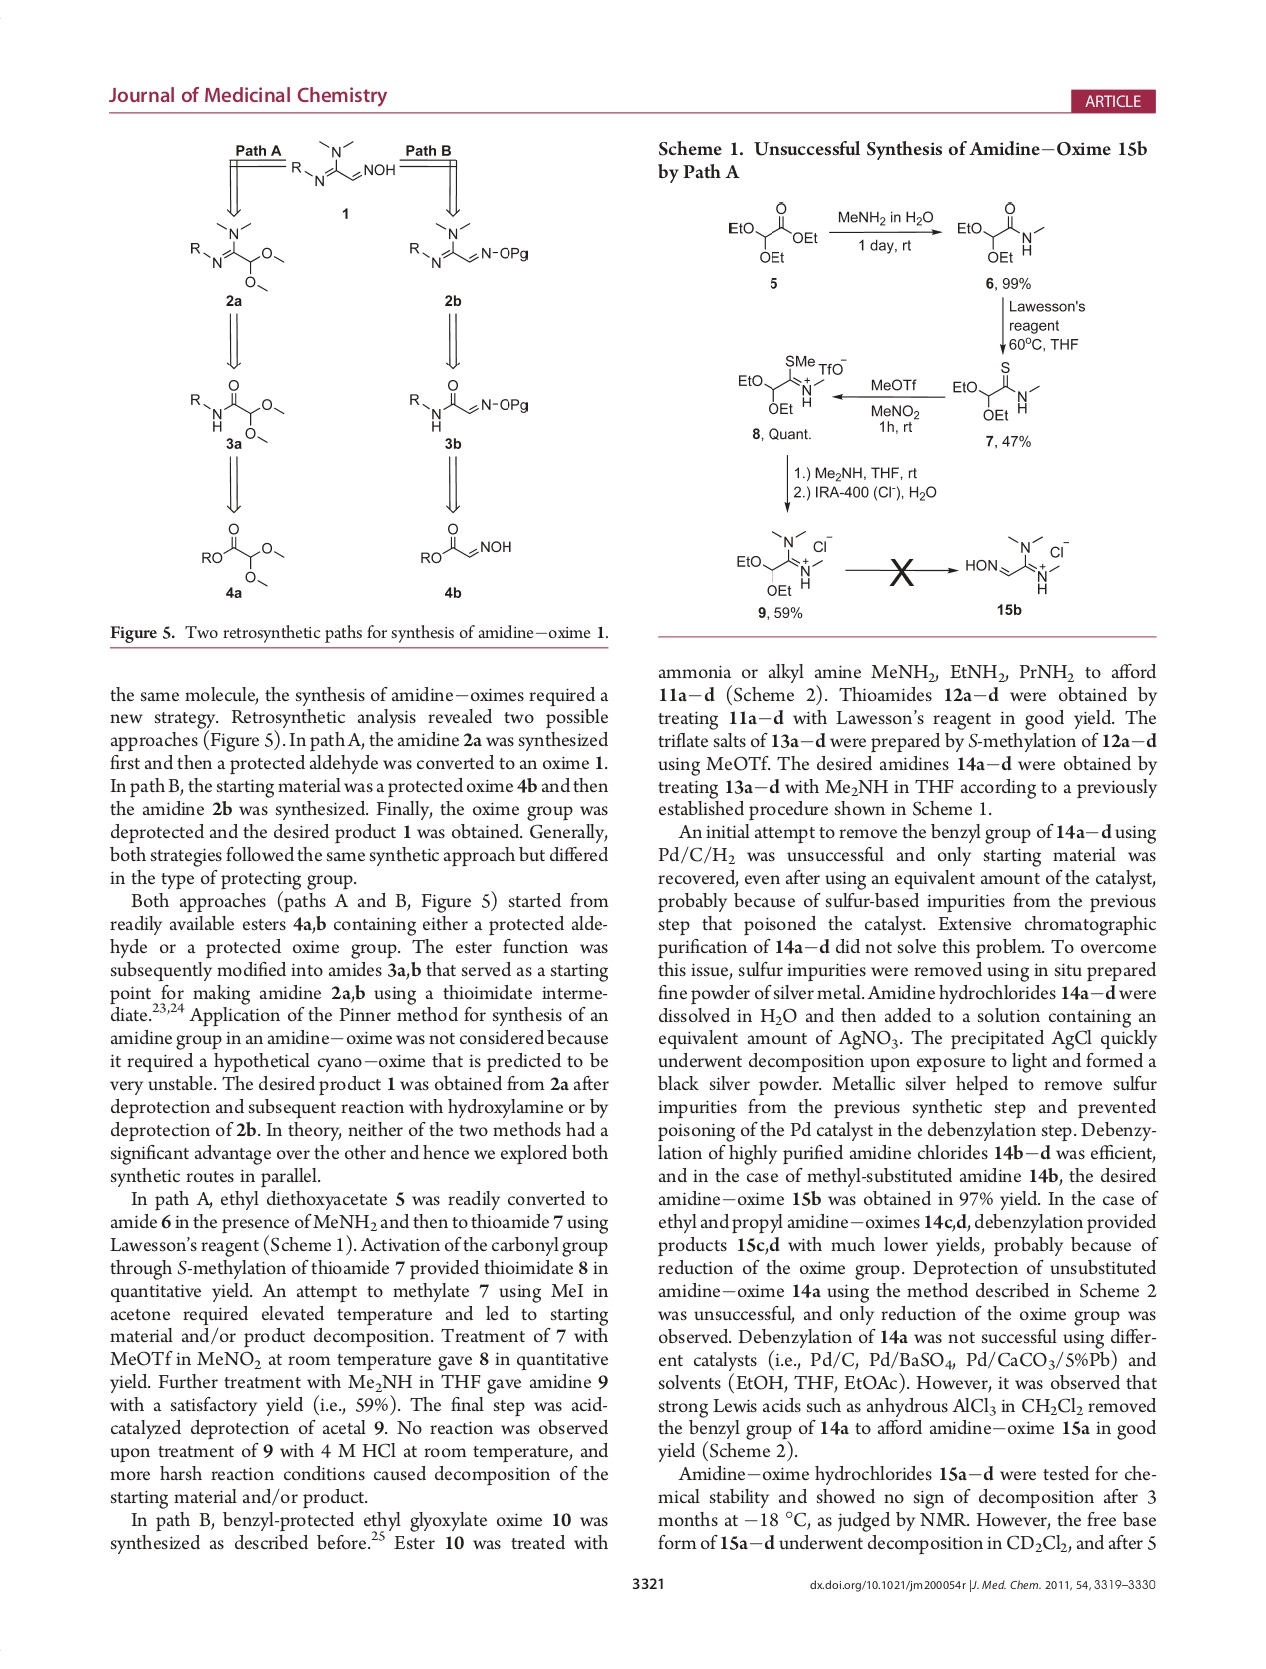exist_molecular: (734, 350, 848, 418), (407, 376, 533, 434), (188, 219, 286, 293), (961, 532, 1071, 597), (735, 528, 834, 600), (725, 197, 824, 266), (953, 197, 1047, 269), (186, 375, 285, 443), (406, 219, 531, 273), (951, 359, 1045, 426), (199, 521, 285, 589), (290, 138, 399, 189), (418, 519, 515, 568)
